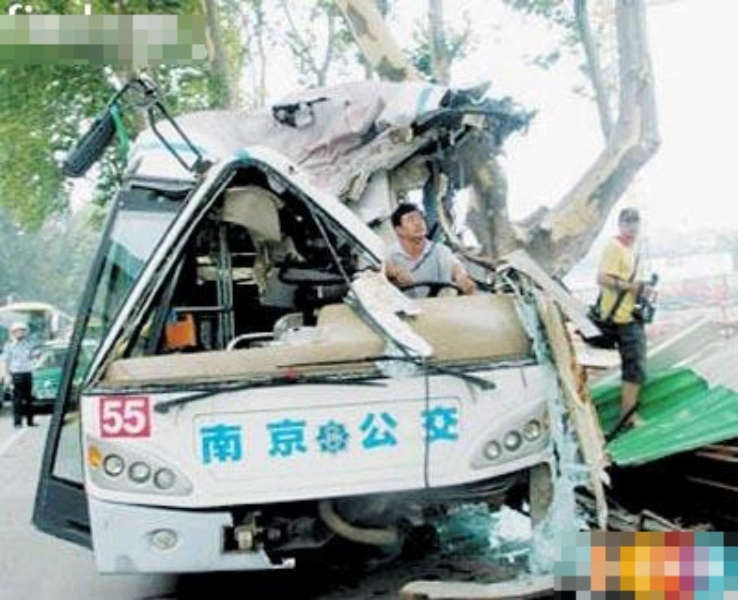text: (209, 416, 224, 466), (225, 416, 240, 466), (241, 416, 256, 466), (257, 416, 272, 466), (273, 416, 288, 466), (289, 416, 304, 466), (369, 401, 384, 451), (385, 401, 400, 451), (401, 401, 416, 451), (417, 401, 432, 451), (433, 401, 448, 451), (449, 401, 464, 451), (196, 416, 208, 466), (113, 399, 128, 436), (129, 399, 144, 436), (357, 401, 368, 451), (102, 399, 112, 436), (305, 416, 310, 466), (145, 399, 148, 436)
